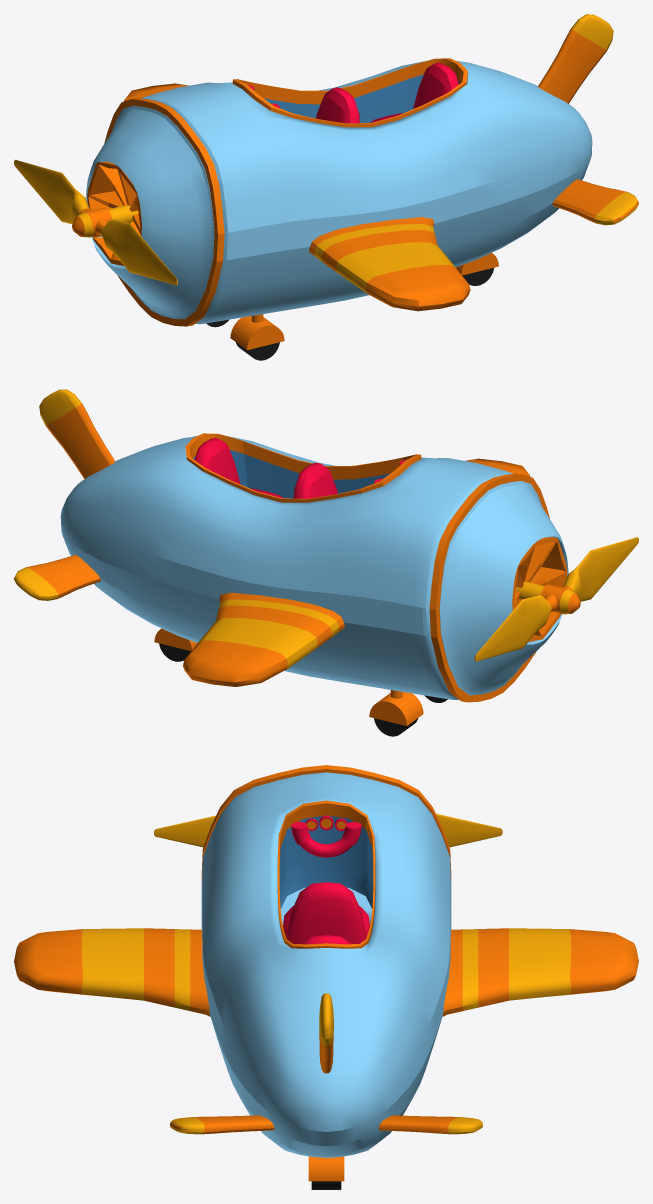
Rendered from AR_Planör.fbx.
3 views of the same model, one above another, from view 1: azimuth 30°, elevation 25°; view 2: azimuth 150°, elevation 25°; view 3: azimuth 270°, elevation 25° (orthographic). The views are drawn at different scales.
Parts seen in each view (by area): view 1: AR_Planör, AR_Planör_Fan.1; view 2: AR_Planör, AR_Planör_Fan.1; view 3: AR_Planör, AR_Planör_Fan.1.
Part boxes in pixels (box(x1,y1,x2,y2)): AR_Planör: box(85, 14, 638, 360); AR_Planör_Fan.1: box(14, 159, 177, 285); AR_Planör: box(14, 389, 568, 736); AR_Planör_Fan.1: box(474, 537, 638, 661); AR_Planör: box(14, 765, 638, 1189); AR_Planör_Fan.1: box(154, 813, 502, 847).
Bounding box in the file's own units: 545 × 242 × 511.
